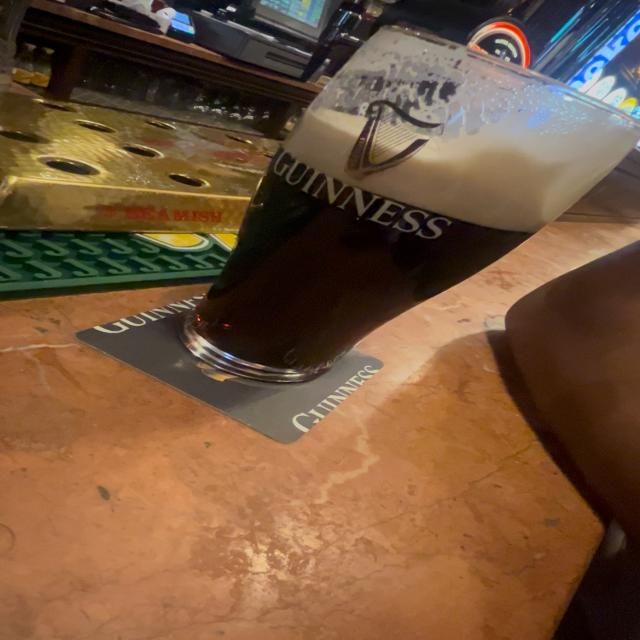too_high_glass: (175, 32, 640, 386)
